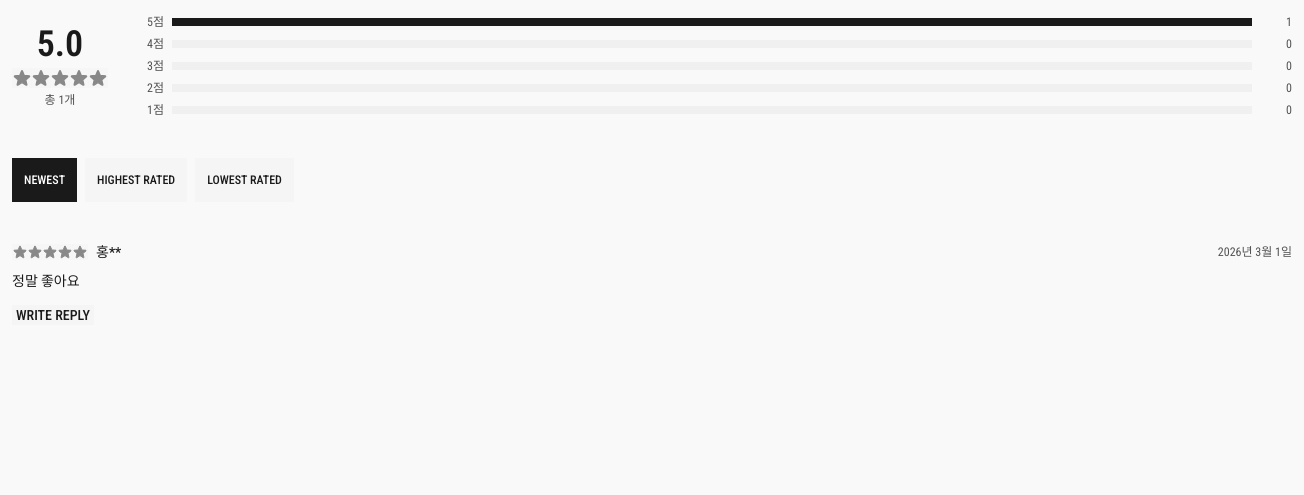
Test: ReviewList › lets admins write a product-review reply inline and updates the card
Expected: the text "정말 좋아요" is shown, [12,270,80,293]
Click the button "Write reply" at [53, 315], box [12,305,94,325]
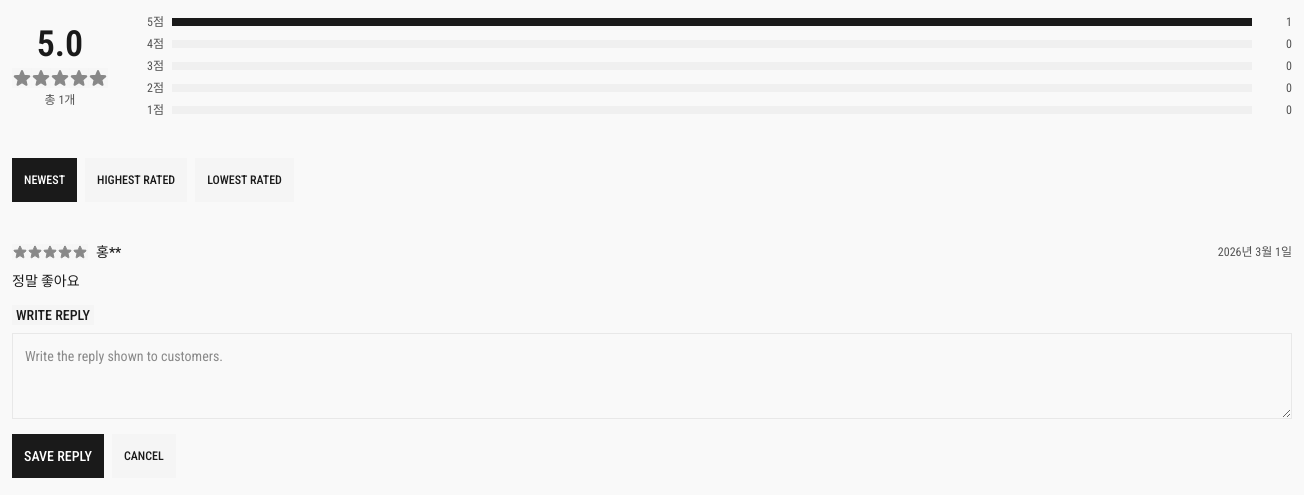
Type "소중한 후기 감사합니다." into the text box with placeholder "Write the reply shown to customers." at [652, 376], box [12,333,1292,419]
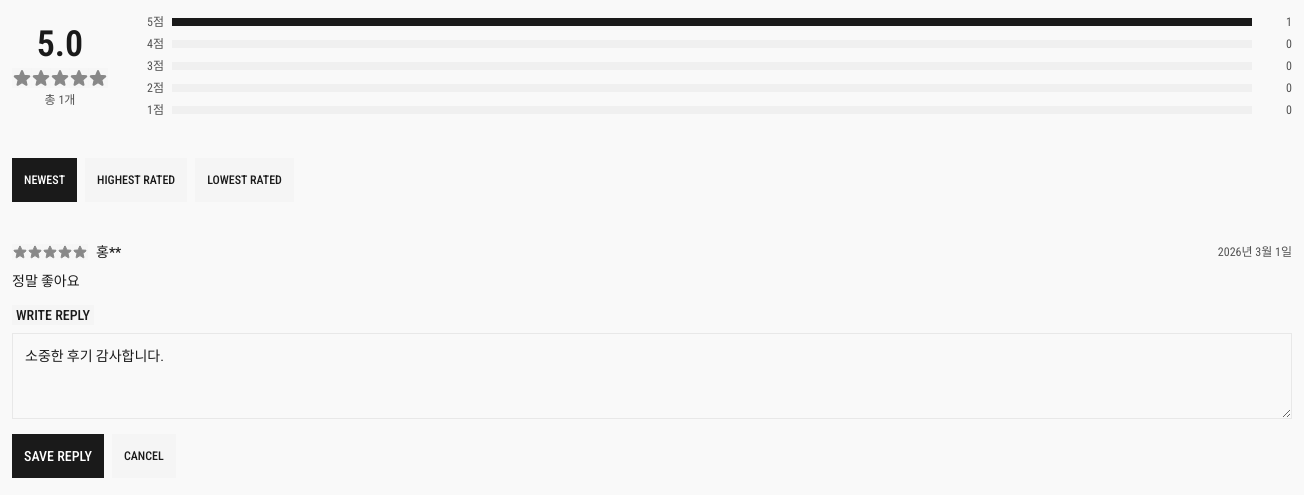
Click the button "Save reply" at [58, 456], box [12,434,104,478]
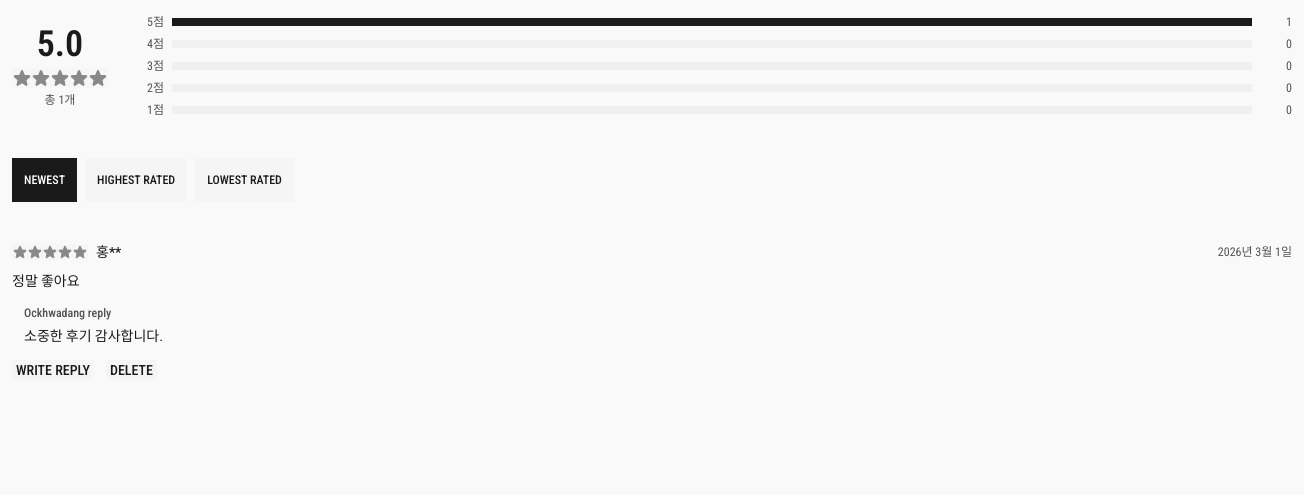
Expected: the text "소중한 후기 감사합니다." is shown, [24,328,163,344]
